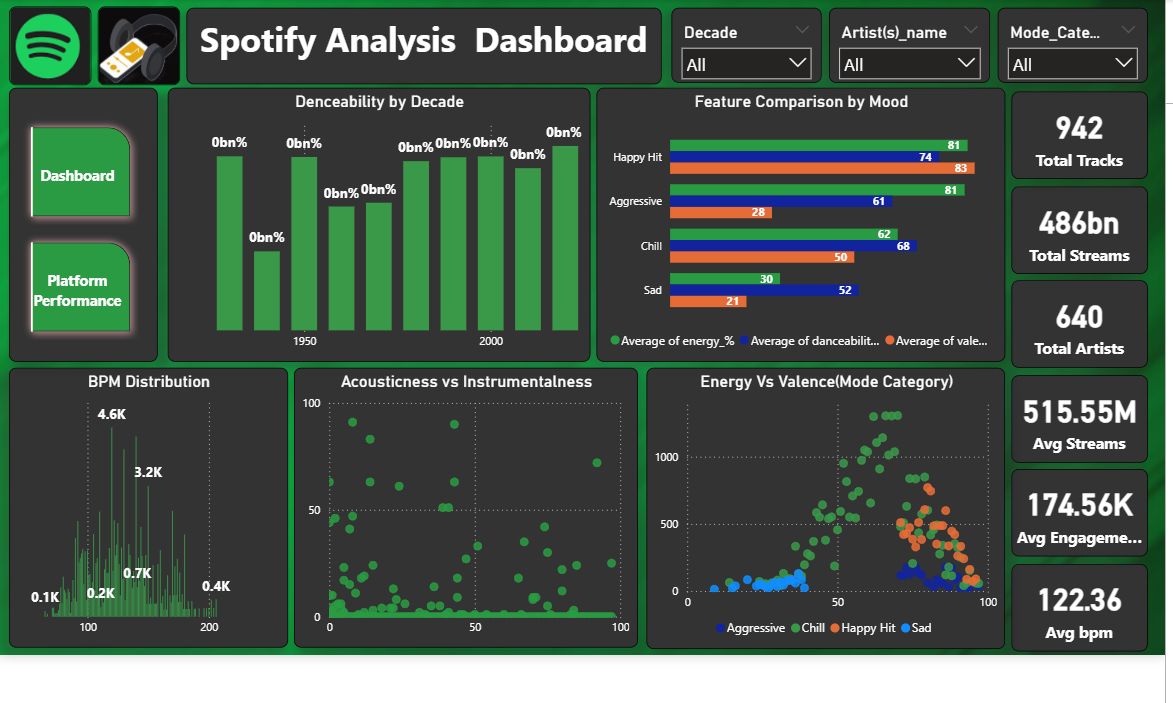

The dashboard page shown, as its layout file describes it:
{"tool":"powerbi","page":{"name":"Audio","canvas":[1280,720],"ordinal":1},"visuals":[{"type":"card","fields":{"Values":["Real_Time_Streaming_Analytics.Total Artists"]},"box":[1110.9,308.8,149.6,96],"z":0},{"type":"card","fields":{"Values":["Real_Time_Streaming_Analytics.Total Streams"]},"box":[1110.9,205.2,149.6,96],"z":1000},{"type":"card","fields":{"Values":["Real_Time_Streaming_Analytics.Total Tracks"]},"box":[1110.9,101.5,149.6,96],"z":2000},{"type":"card","fields":{"Values":["Real_Time_Streaming_Analytics.Avg bpm"]},"box":[1110.9,619.8,149.6,96],"z":3000},{"type":"card","fields":{"Values":["Real_Time_Streaming_Analytics.Avg Streams"]},"box":[1110.9,412.5,149.6,96.1],"z":4000},{"type":"card","fields":{"Values":["Real_Time_Streaming_Analytics.Avg Engagement"]},"box":[1110.9,516.2,149.6,96],"z":5000},{"type":"textbox","box":[205.8,9.6,521.4,83.7],"z":6000},{"type":"clusteredBarChart","title":"Feature Comparison by Mood","fields":{"Category":["Real_Time_Streaming_Analytics.Mode_Category"],"Y":["Avg(Real_Time_Streaming_Analytics.energy_%)","Avg(Real_Time_Streaming_Analytics.danceability_%)","Avg(Real_Time_Streaming_Analytics.valence_%)"]},"box":[655.9,97.4,448.7,300.5],"z":7000},{"type":"columnChart","title":"Denceability by Decade","fields":{"Category":["Real_Time_Streaming_Analytics.Decade"],"Y":["Avg(Real_Time_Streaming_Analytics.danceability_%)"]},"box":[185.2,97.4,463.8,300.5],"z":8000},{"type":"scatterChart","title":"Acousticness vs Instrumentalness","fields":{"X":["Real_Time_Streaming_Analytics.acousticness_%"],"Y":["Real_Time_Streaming_Analytics.instrumentalness_%"]},"box":[323.8,404.8,377.4,307.4],"z":9000},{"type":"scatterChart","title":"Energy Vs Valence(Mode Category)","fields":{"Y":["Sum(Real_Time_Streaming_Analytics.valence_%)"],"Series":["Real_Time_Streaming_Analytics.Mode_Category"],"X":["Real_Time_Streaming_Analytics.energy_%"]},"box":[710.8,404.8,393.8,308.7],"z":10000},{"type":"slicer","fields":{"Values":["Real_Time_Streaming_Analytics.Decade"]},"box":[738.3,9.6,164.7,82.3],"z":11000},{"type":"slicer","fields":{"Values":["Real_Time_Streaming_Analytics.artist(s)_name"]},"box":[911.2,9.6,177,82.3],"z":12000},{"type":"slicer","fields":{"Values":["Real_Time_Streaming_Analytics.Mode_Category"]},"box":[1096.4,9.6,164.7,82.3],"z":13000},{"type":"image","box":[11,8.9,90.6,86.4],"z":14000},{"type":"image","box":[108.4,8.9,90.6,86.4],"z":15000},{"type":"columnChart","title":"BPM Distribution","fields":{"Category":["Real_Time_Streaming_Analytics.bpm"],"Y":["Sum(Real_Time_Streaming_Analytics.bpm)"]},"box":[11,404.8,306,307.4],"z":16000},{"type":"textbox","box":[11,97.4,163.3,300.5],"z":17000},{"type":"pageNavigator","box":[26.1,131.7,127.6,242.9],"z":18000}]}

Visuals, with their boxes on the page's 1280x720 design canvas (x1, y1, x2, y2). These are canvas units, not pixel positions in the 1173x703 screenshot, which may show the page scaled, cropped or inside an application window:
card - Real_Time_Streaming_Analytics.Total Artists: Rect(1111, 309, 1260, 405)
card - Real_Time_Streaming_Analytics.Total Streams: Rect(1111, 205, 1260, 301)
card - Real_Time_Streaming_Analytics.Total Tracks: Rect(1111, 102, 1260, 198)
card - Real_Time_Streaming_Analytics.Avg bpm: Rect(1111, 620, 1260, 716)
card - Real_Time_Streaming_Analytics.Avg Streams: Rect(1111, 412, 1260, 509)
card - Real_Time_Streaming_Analytics.Avg Engagement: Rect(1111, 516, 1260, 612)
textbox: Rect(206, 10, 727, 93)
"Feature Comparison by Mood" clusteredBarChart: Rect(656, 97, 1105, 398)
"Denceability by Decade" columnChart: Rect(185, 97, 649, 398)
"Acousticness vs Instrumentalness" scatterChart: Rect(324, 405, 701, 712)
"Energy Vs Valence(Mode Category)" scatterChart: Rect(711, 405, 1105, 714)
slicer - Real_Time_Streaming_Analytics.Decade: Rect(738, 10, 903, 92)
slicer - Real_Time_Streaming_Analytics.artist(s)_name: Rect(911, 10, 1088, 92)
slicer - Real_Time_Streaming_Analytics.Mode_Category: Rect(1096, 10, 1261, 92)
image: Rect(11, 9, 102, 95)
image: Rect(108, 9, 199, 95)
"BPM Distribution" columnChart: Rect(11, 405, 317, 712)
textbox: Rect(11, 97, 174, 398)
pageNavigator: Rect(26, 132, 154, 375)
